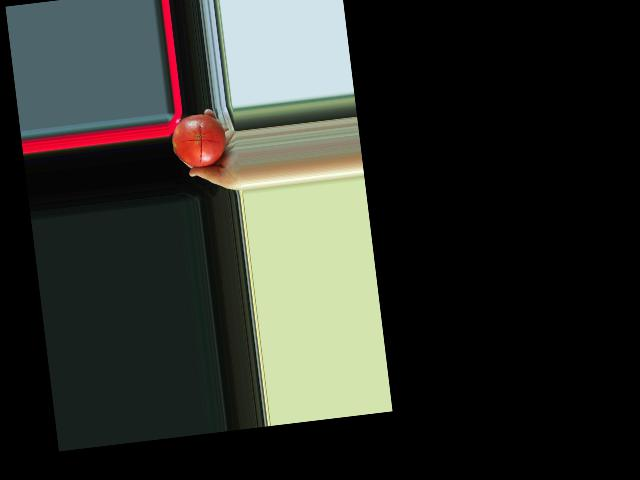tomato: (169, 110, 229, 169)
